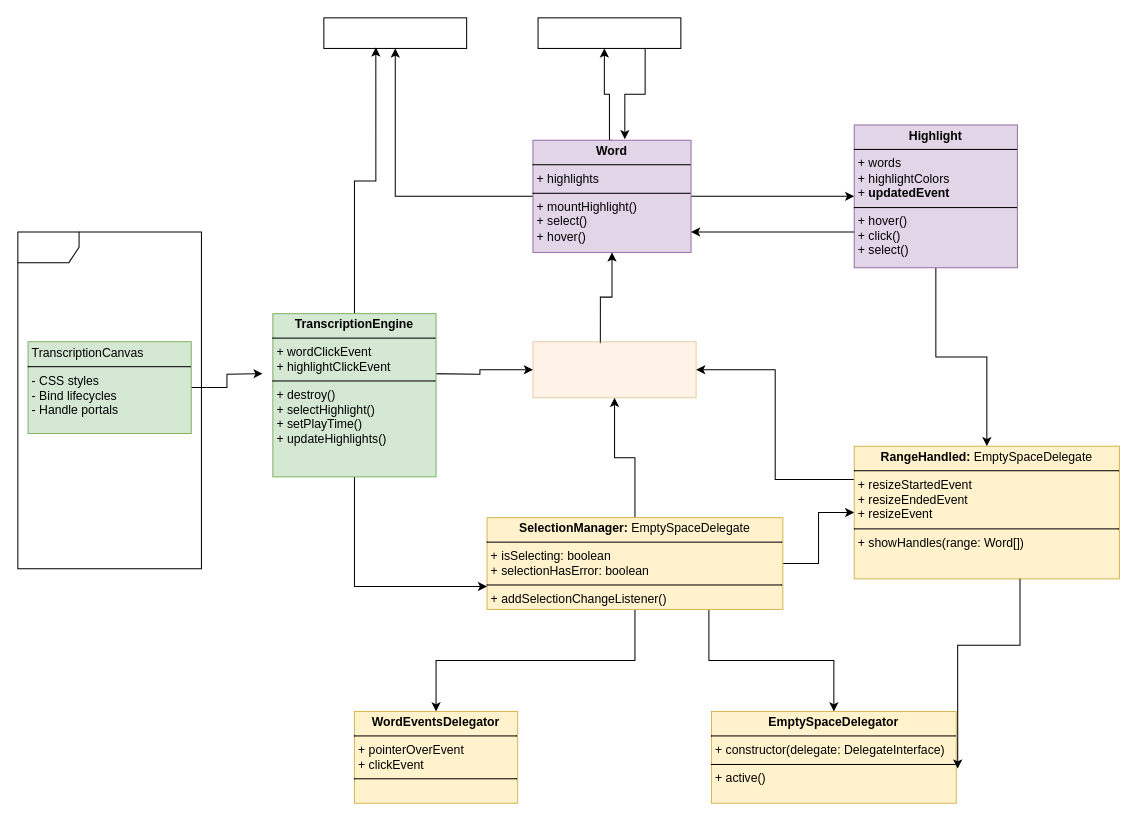
Some shapes in this 1137 by 821 pixel diagram are drawn without their labels. Here are the shapes that lost their labels. From the top down, the box of each, then its label:
(323, 17, 467, 48): Monologue
(537, 17, 681, 48): WordGroup
(532, 341, 696, 398): readonly Words:Word[]
(17, 231, 201, 569): React
